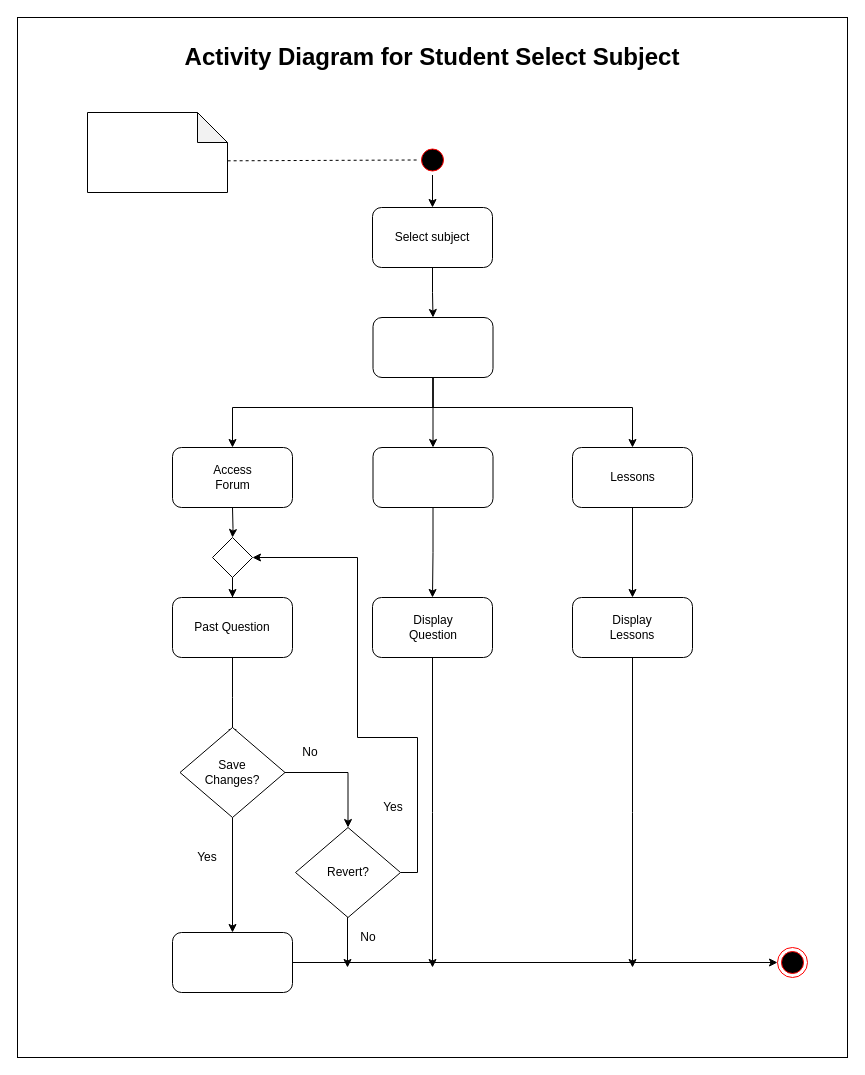
Some shapes in this 865 by 1075 pixel diagram are drawn without their labels. The shapes that lost their labels are listed below. From the top down, each one's box as (x1, y1, x2, y2) in pixels, then its label:
(86, 112, 228, 192): Student Logged in
(372, 316, 493, 378): Select Topic
(372, 446, 493, 508): Take Quiz
(172, 932, 292, 992): Refresh Content
